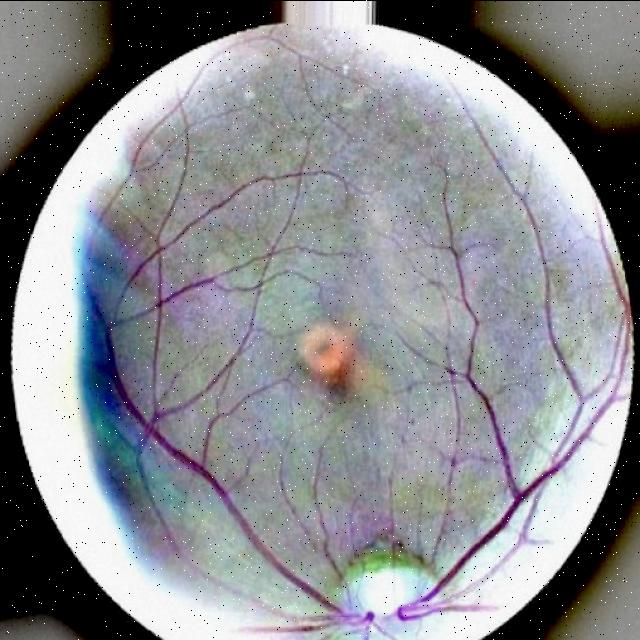Nerves: (107, 121, 631, 640), (147, 270, 266, 372)
Optic Disk: (324, 542, 450, 640)
